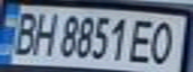1: (106, 15, 133, 62)
5: (90, 12, 112, 61)
8: (57, 11, 81, 58), (75, 12, 96, 60)
B: (6, 8, 42, 56)
E: (127, 16, 160, 64)
H: (27, 8, 60, 57)
O: (145, 17, 184, 66)
